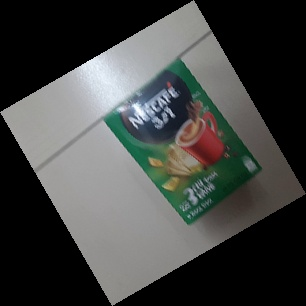Nes Rang: (103, 57, 263, 227)
